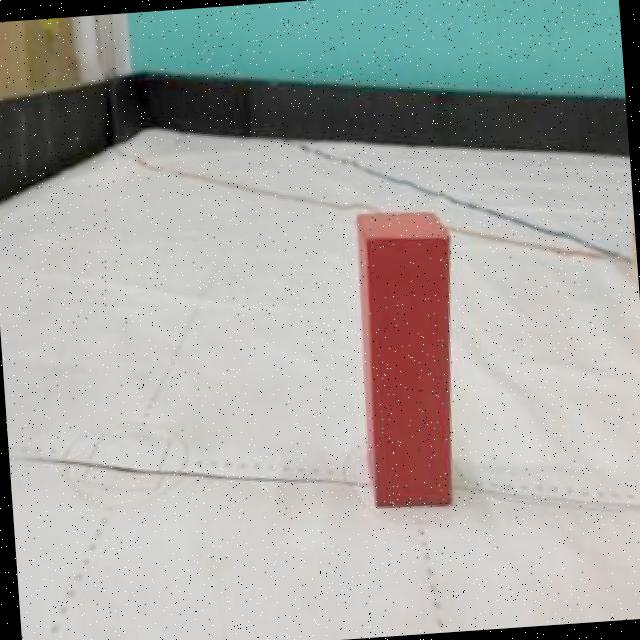redbox: (352, 208, 469, 512)
